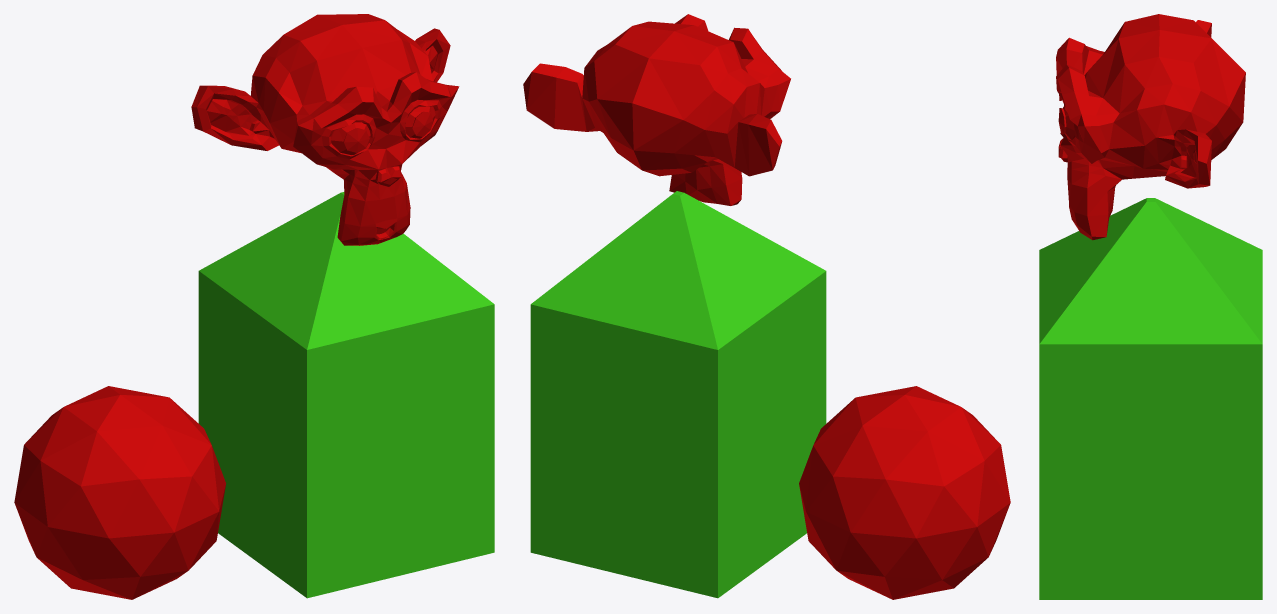
3 renders of one model, left to right at view 1: azimuth 30°, elevation 25°; view 2: azimuth 150°, elevation 25°; view 3: azimuth 270°, elevation 25°, orthographic. The views are drawn at different scales.
Parts seen in each view (by area): view 1: Cube, Icosphere, Suzanne; view 2: Cube, Icosphere, Suzanne; view 3: Cube, Suzanne.
Part boxes in pixels (<box>): Cube: <box>198,192,494,598</box>; Icosphere: <box>14,386,225,599</box>; Suzanne: <box>191,14,459,245</box>; Cube: <box>530,191,826,598</box>; Icosphere: <box>799,386,1010,599</box>; Suzanne: <box>523,14,790,205</box>; Cube: <box>1039,198,1262,599</box>; Suzanne: <box>1056,14,1245,240</box>.
Bounding box in the file's own units: 4.73 × 5.17 × 2.
